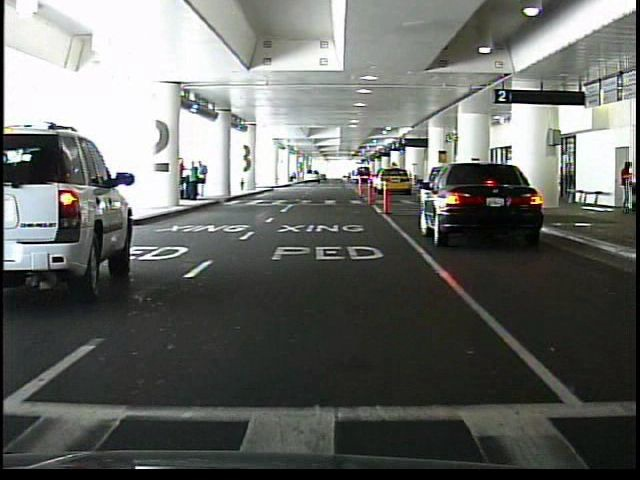person: (617, 163, 634, 217), (186, 160, 199, 201), (198, 161, 210, 198)
